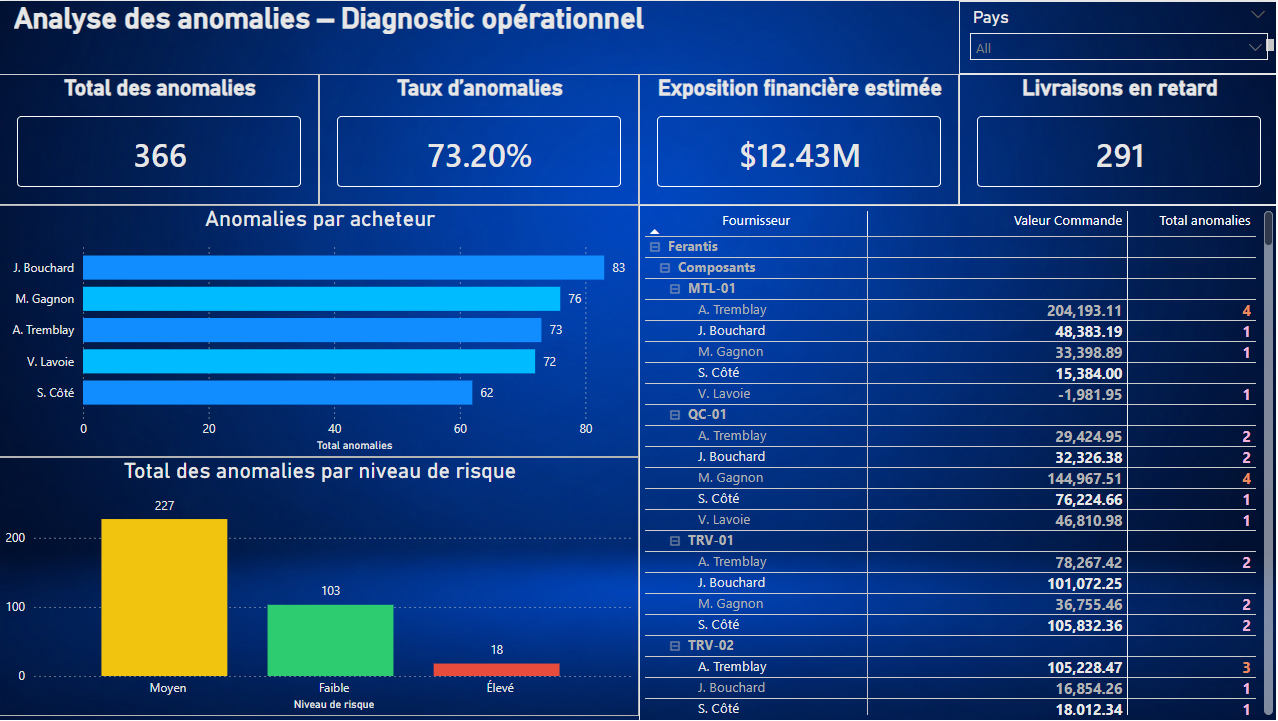

What the dashboard file says about the page in this screenshot:
{"tool":"powerbi","page":{"name":"Analyse des anomalies","canvas":[1280,720],"ordinal":1},"visuals":[{"type":"textbox","title":"Analyse des anomalies – Diagnostic opérationnel","box":[9.7,0,1270.3,55.1],"z":0},{"type":"cardVisual","title":"Commandes avec anomalies","fields":{"Data":["Commandes_achat.Total anomalies"]},"box":[0,72.9,320,131.3],"z":1000},{"type":"cardVisual","title":"Taux d’anomalies","fields":{"Data":["Commandes_achat.Taux d'anomalies"]},"box":[320,72.9,320,131.3],"z":2000},{"type":"cardVisual","title":"Exposition financière estimée","fields":{"Data":["Commandes_achat.Exposition financière estimée"]},"box":[640,72.9,320,131.3],"z":3000},{"type":"cardVisual","title":"Livraisons en retard","fields":{"Data":["Commandes_achat.Livraisons en retard"]},"box":[960,72.9,320,131.3],"z":4000},{"type":"clusteredBarChart","title":"Anomalies par acheteur","fields":{"Category":["Commandes_achat.Acheteur"],"Y":["Commandes_achat.Total anomalies"]},"box":[0,204,640,252],"z":5000},{"type":"columnChart","title":"Total des anomalies par niveau de risque","fields":{"Category":["Fournisseurs.Niveau_Risque"],"Y":["Commandes_achat.Total anomalies"]},"box":[0,456,640,259],"z":6000},{"type":"slicer","fields":{"Values":["Fournisseurs.Pays"]},"box":[960,0,320,72.9],"z":7000},{"type":"pivotTable","fields":{"Rows":["Fournisseurs.Nom_Fournisseur","Fournisseurs.Categorie_Fournisseur","Commandes_achat.Usine","Commandes_achat.Acheteur"],"Values":["Sum(Commandes_achat.Valeur_Commande)","Commandes_achat.Total anomalies"]},"box":[640,204.3,640,515.5],"z":8000}]}

Visuals, with their boxes in screenshot pixels (x1, y1, x2, y2), scaled from the page's 1280x720 canvas onto the 1278x721 screenshot:
"Analyse des anomalies – Diagnostic opérationnel" textbox: 10 0 1277 55
"Commandes avec anomalies" cardVisual: 0 73 320 204
"Taux d’anomalies" cardVisual: 320 73 639 204
"Exposition financière estimée" cardVisual: 639 73 958 204
"Livraisons en retard" cardVisual: 958 73 1277 204
"Anomalies par acheteur" clusteredBarChart: 0 204 639 457
"Total des anomalies par niveau de risque" columnChart: 0 457 639 716
slicer - Fournisseurs.Pays: 958 0 1277 73
pivotTable - Fournisseurs.Nom_Fournisseur x Fournisseurs.Categorie_Fournisseur: 639 205 1277 720
